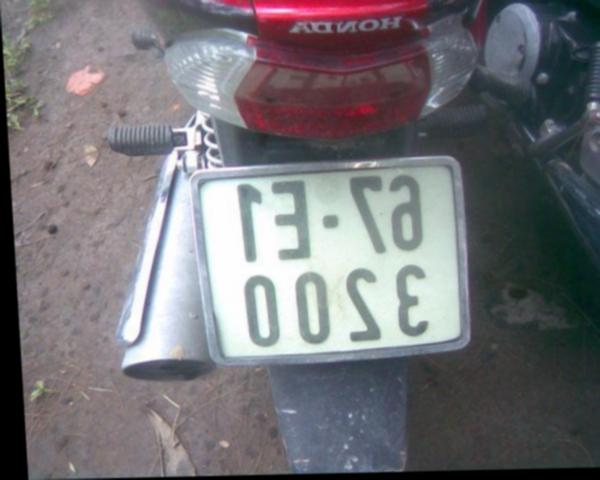License_Plate: (202, 159, 467, 361)
